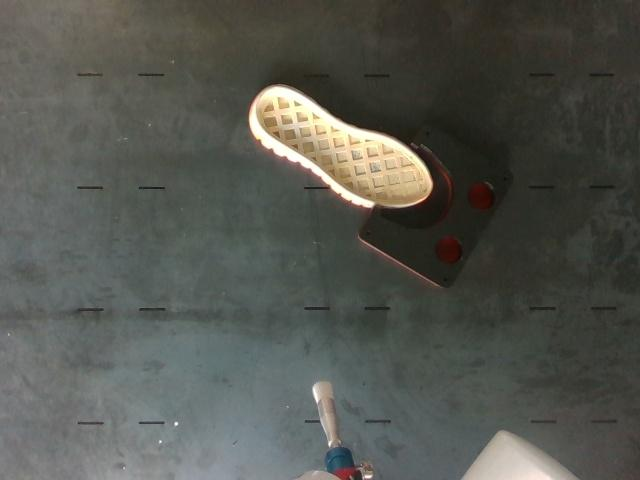shoes: (256, 87, 431, 206)
